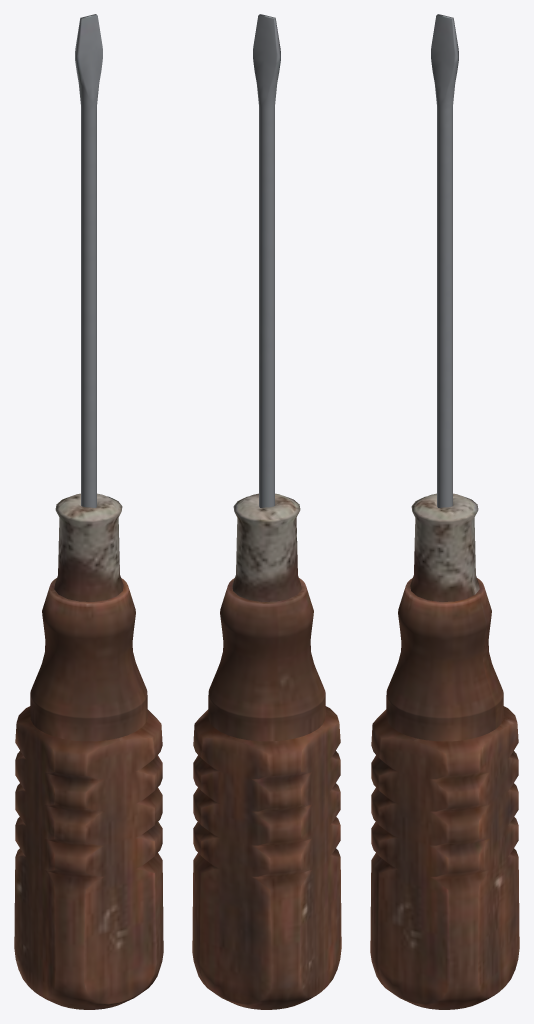
The model's file is chave_fenda.glb.
The picture shows the model from 3 angles, left to right: view 1: azimuth 30°, elevation 25°; view 2: azimuth 150°, elevation 25°; view 3: azimuth 330°, elevation 25°; orthographic projection.
Parts seen in each view (by area): view 1: flathead_screwdriver_flathead_screwdriver_0; view 2: flathead_screwdriver_flathead_screwdriver_0; view 3: flathead_screwdriver_flathead_screwdriver_0.
Part boxes in pixels (x1=…): flathead_screwdriver_flathead_screwdriver_0: x1=14, y1=14, x2=163, y2=1009; flathead_screwdriver_flathead_screwdriver_0: x1=192, y1=14, x2=341, y2=1009; flathead_screwdriver_flathead_screwdriver_0: x1=370, y1=14, x2=519, y2=1009.
Size of the model in its own units: 0.03 by 0.2613 by 0.03.
1 material, 1 textured.
